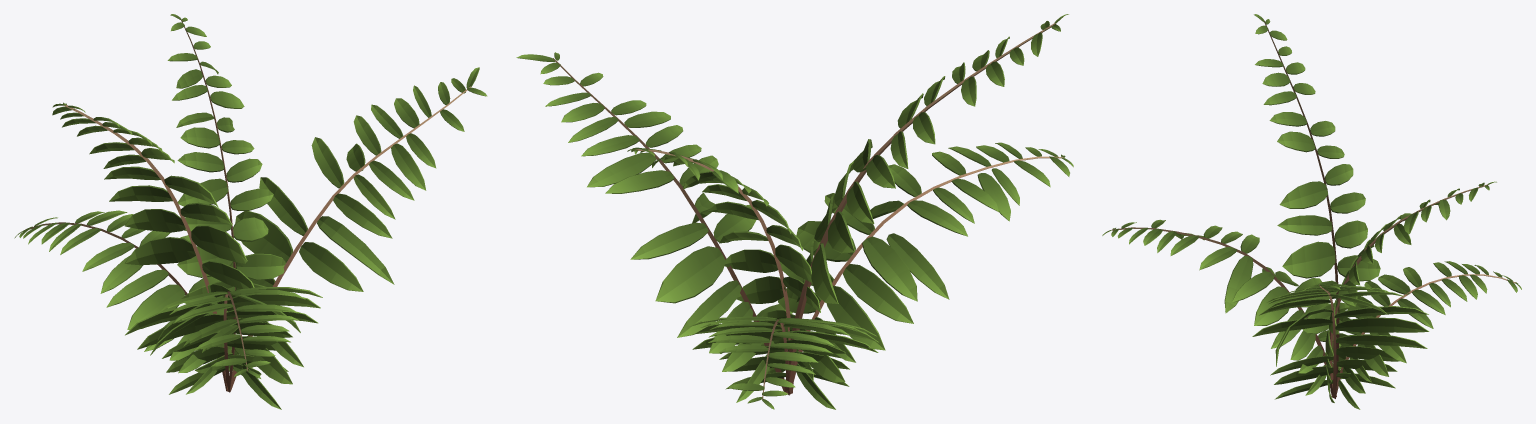
File: Cavern_Fern-02.fbx
3 renders of one model, left to right at view 1: azimuth 30°, elevation 25°; view 2: azimuth 150°, elevation 25°; view 3: azimuth 270°, elevation 25°, orthographic. The views are drawn at different scales.
Visible parts, largest first — view 1: Cavern_Fern-02; view 2: Cavern_Fern-02; view 3: Cavern_Fern-02.
Boxes of the visible parts, x1,y1,x2,y2 form: Cavern_Fern-02: (14, 14, 487, 409); Cavern_Fern-02: (516, 14, 1073, 409); Cavern_Fern-02: (1102, 14, 1521, 409).
Bounding box in the file's own units: 305 × 233 × 295.
1 material, 1 textured.
